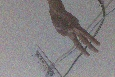hand: (48, 12, 103, 59)
